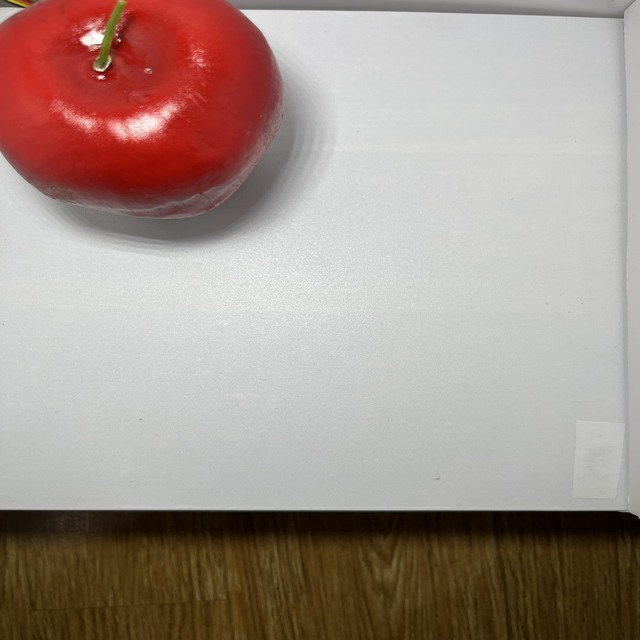Tao: (0, 0, 296, 232)
